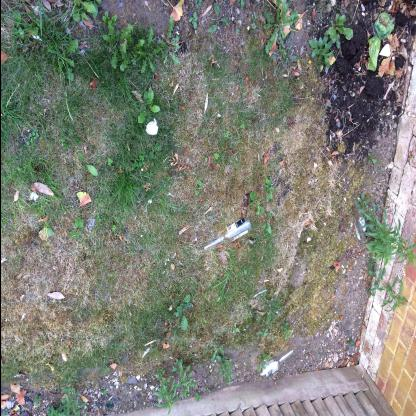cam: (203, 215, 251, 251)
